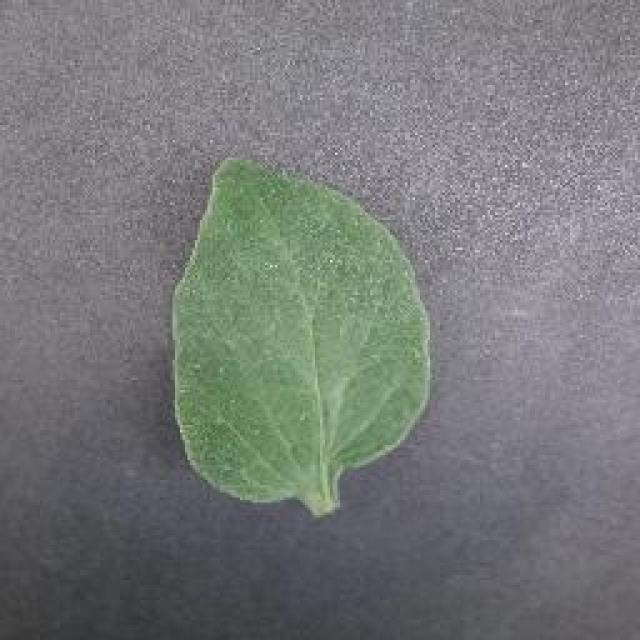Tomato_Healthy: (155, 152, 451, 518)
